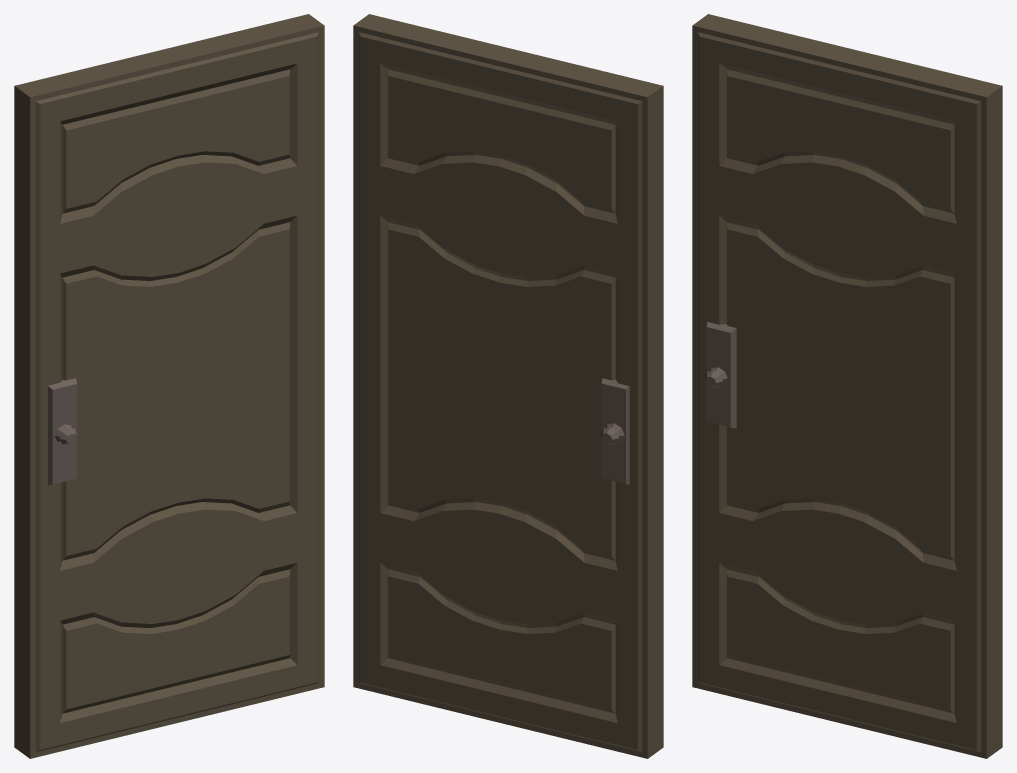
File: door.fbx
The picture shows the model from 3 angles, left to right: view 1: azimuth 30°, elevation 25°; view 2: azimuth 150°, elevation 25°; view 3: azimuth 330°, elevation 25°; orthographic projection.
Parts seen in each view (by area): view 1: Door_8; view 2: Door_8; view 3: Door_8.
Boxes of the visible parts, bbox=[...] form: Door_8: bbox=[14, 14, 324, 758]; Door_8: bbox=[353, 14, 663, 758]; Door_8: bbox=[692, 14, 1002, 758].
Size of the model in its own units: 154 by 331 by 34.87.
